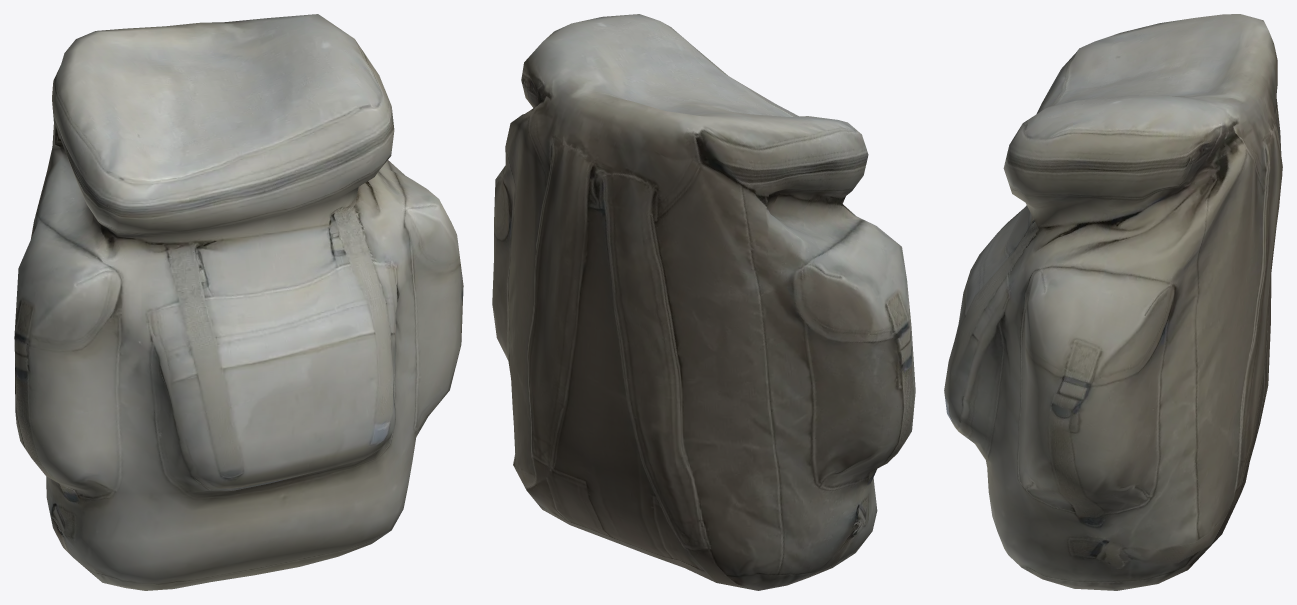
Rendered from backpack-2-compressed.glb.
3 renders of one model, left to right at view 1: azimuth 30°, elevation 25°; view 2: azimuth 150°, elevation 25°; view 3: azimuth 270°, elevation 25°, orthographic.
Visible parts, largest first — view 1: ZBrush_defualt_group_default_0; view 2: ZBrush_defualt_group_default_0; view 3: ZBrush_defualt_group_default_0.
Boxes of the visible parts, bbox=[...] form: ZBrush_defualt_group_default_0: bbox=[14, 14, 463, 590]; ZBrush_defualt_group_default_0: bbox=[492, 14, 915, 590]; ZBrush_defualt_group_default_0: bbox=[944, 14, 1282, 590].
Size of the model in its own units: 0.7502 by 0.8504 by 0.5238.
1 material, 1 textured.
